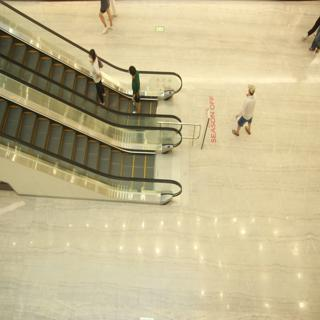person: (232, 75, 259, 143)
